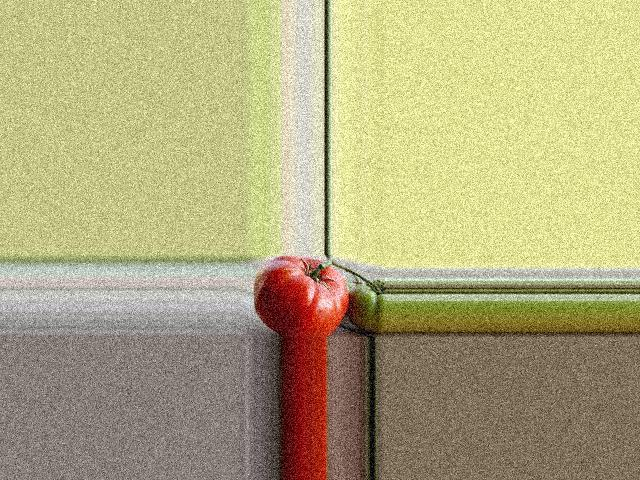tomato: (252, 255, 348, 338)
